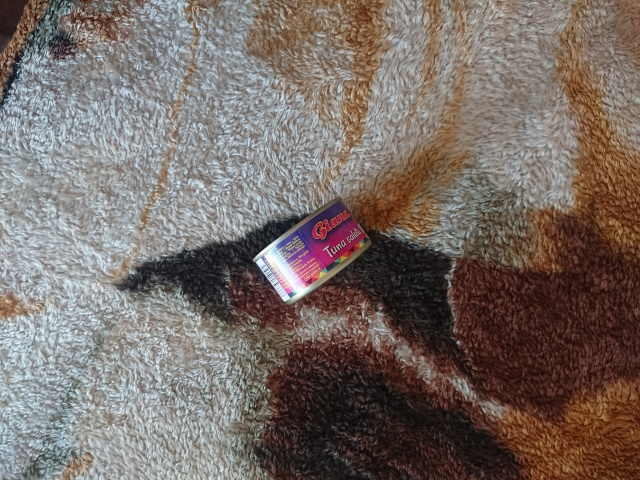Giana Tuna Salad Mexico 185g: (249, 193, 374, 308)
